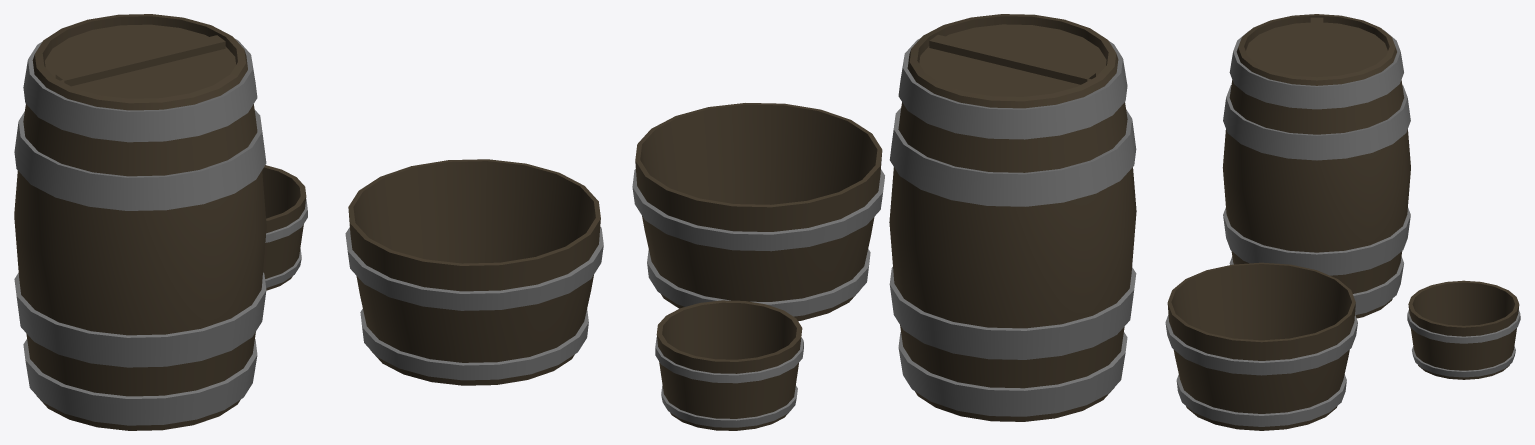
Rendered from Barrels.fbx.
3 views of the same model, side by side, from view 1: azimuth 30°, elevation 25°; view 2: azimuth 150°, elevation 25°; view 3: azimuth 270°, elevation 25° (orthographic). The views are drawn at different scales.
Parts seen in each view (by area): view 1: polySurface2, polySurface5, polySurface3, pCube2; view 2: polySurface2, polySurface5, pCube2, polySurface3; view 3: polySurface2, polySurface5, pCube2, polySurface3.
Boxes of the visible parts, x1,y1,x2,y2 form: polySurface2: (14,14,266,430); polySurface5: (345,159,603,385); polySurface3: (44,24,235,98); pCube2: (262,165,307,290); polySurface2: (889,14,1136,421); polySurface5: (632,103,884,321); pCube2: (655,300,803,430); polySurface3: (919,24,1106,96); polySurface2: (1222,14,1410,318); polySurface5: (1165,262,1357,430); pCube2: (1407,280,1520,379); polySurface3: (1246,17,1387,77).
Size of the model in its own units: 5.54 by 3.36 by 4.42.
